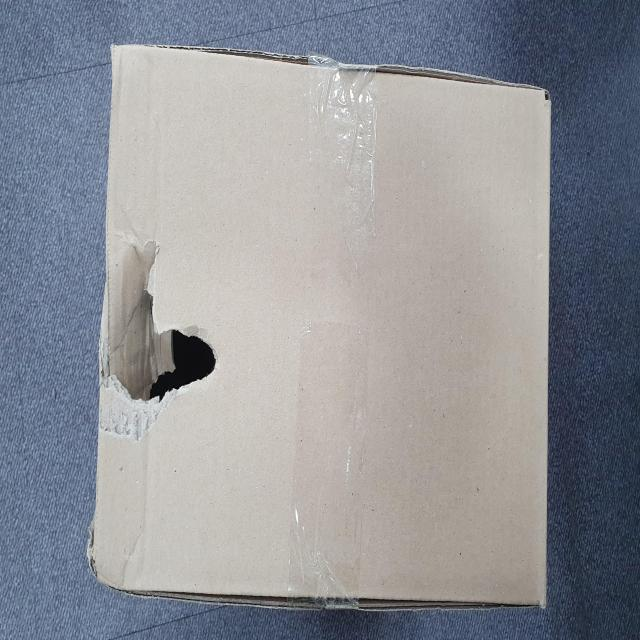damaged: (120, 271, 220, 394)
